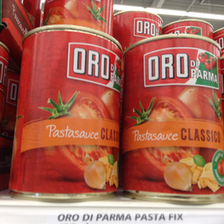tomato_sauce: (8, 25, 123, 201), (121, 35, 224, 203)
